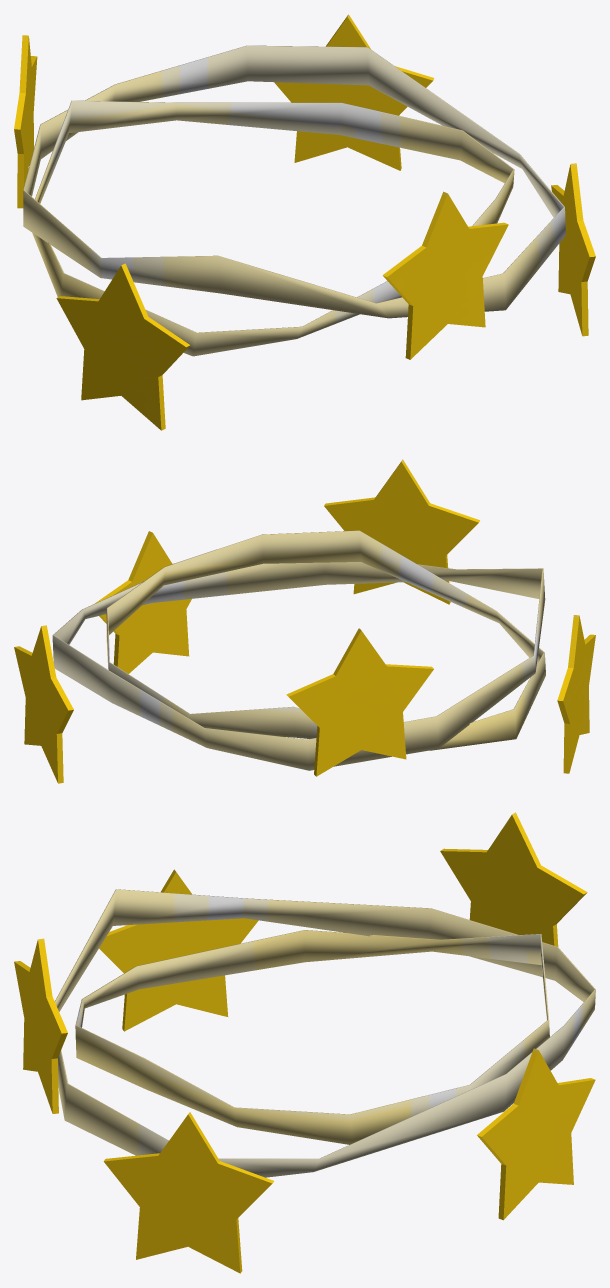
File: Stars.fbx
3 renders of one model, top to bottom at view 1: azimuth 30°, elevation 25°; view 2: azimuth 150°, elevation 25°; view 3: azimuth 270°, elevation 25°, orthographic. The views are drawn at different scales.
Parts seen in each view (by area): view 1: Star.001; view 2: Star.001; view 3: Star.001.
Boxes of the visible parts, bbox=[...] form: Star.001: bbox=[14, 14, 595, 430]; Star.001: bbox=[14, 459, 595, 783]; Star.001: bbox=[14, 812, 595, 1273].
Bounding box in the file's own units: 112 × 54 × 110.
